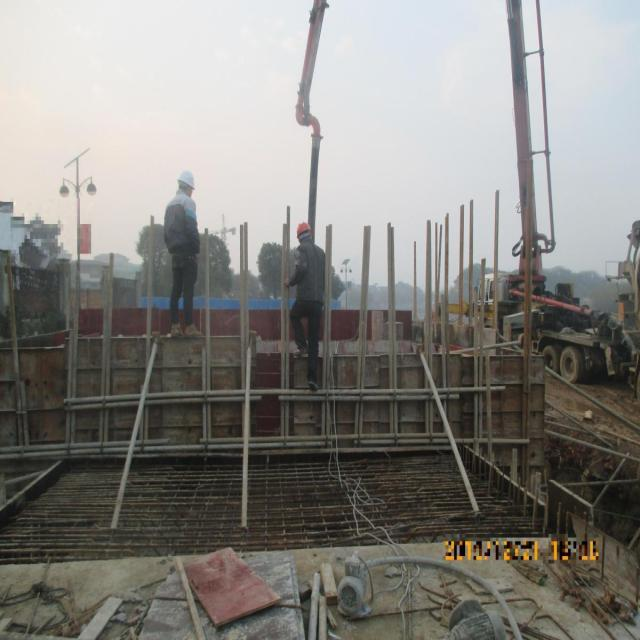truck: (469, 0, 637, 404), (280, 0, 339, 306)
